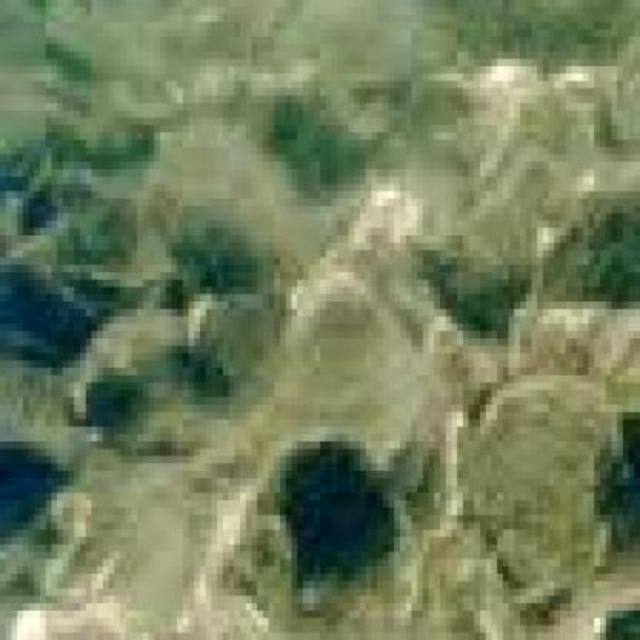Oyster-Closed: (253, 267, 446, 486), (475, 372, 621, 597)
